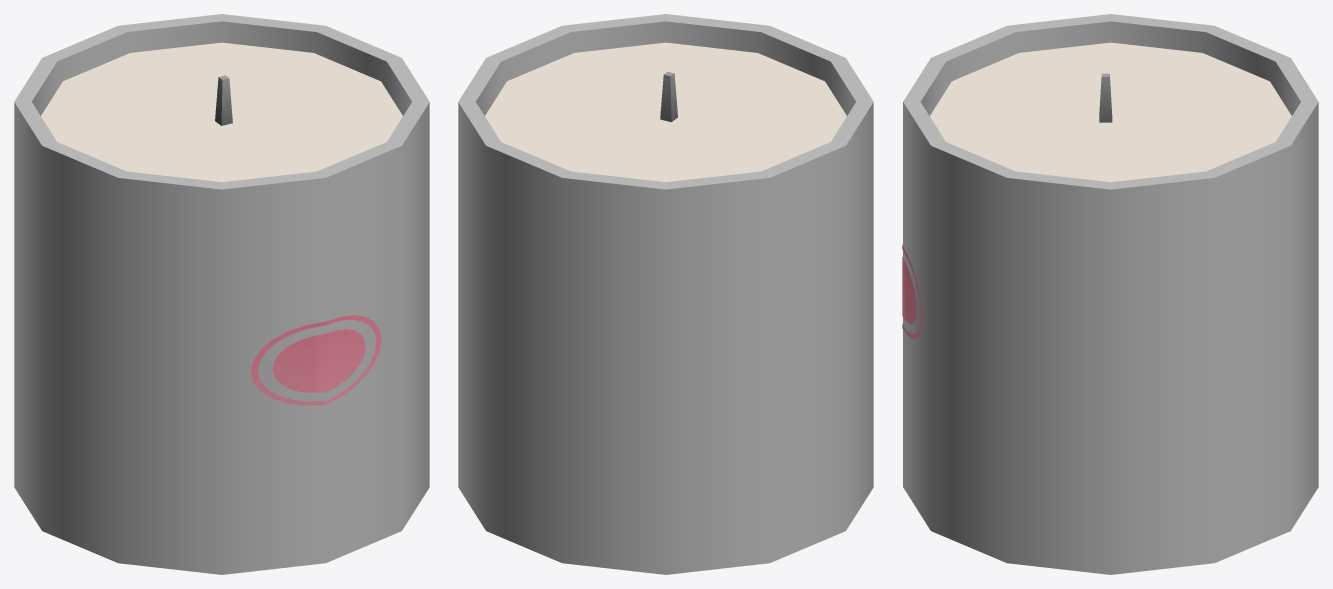
The model's file is Dol_OB_Candle_1.fbx.
3 views of the same model, side by side, from view 1: azimuth 30°, elevation 25°; view 2: azimuth 150°, elevation 25°; view 3: azimuth 270°, elevation 25° (orthographic).
Parts seen in each view (by area): view 1: Doll_OB_candle_001_glass, Doll_OB_candle_001_1; view 2: Doll_OB_candle_001_glass, Doll_OB_candle_001_1; view 3: Doll_OB_candle_001_glass, Doll_OB_candle_001_1.
Boxes of the visible parts, x1=… form: Doll_OB_candle_001_glass: x1=14, y1=14, x2=429, y2=574; Doll_OB_candle_001_1: x1=41, y1=42, x2=402, y2=405; Doll_OB_candle_001_glass: x1=458, y1=14, x2=873, y2=574; Doll_OB_candle_001_1: x1=485, y1=42, x2=846, y2=182; Doll_OB_candle_001_glass: x1=903, y1=14, x2=1318, y2=574; Doll_OB_candle_001_1: x1=902, y1=42, x2=1291, y2=338.
Size of the model in its own units: 5.79 by 6.33 by 5.8.
